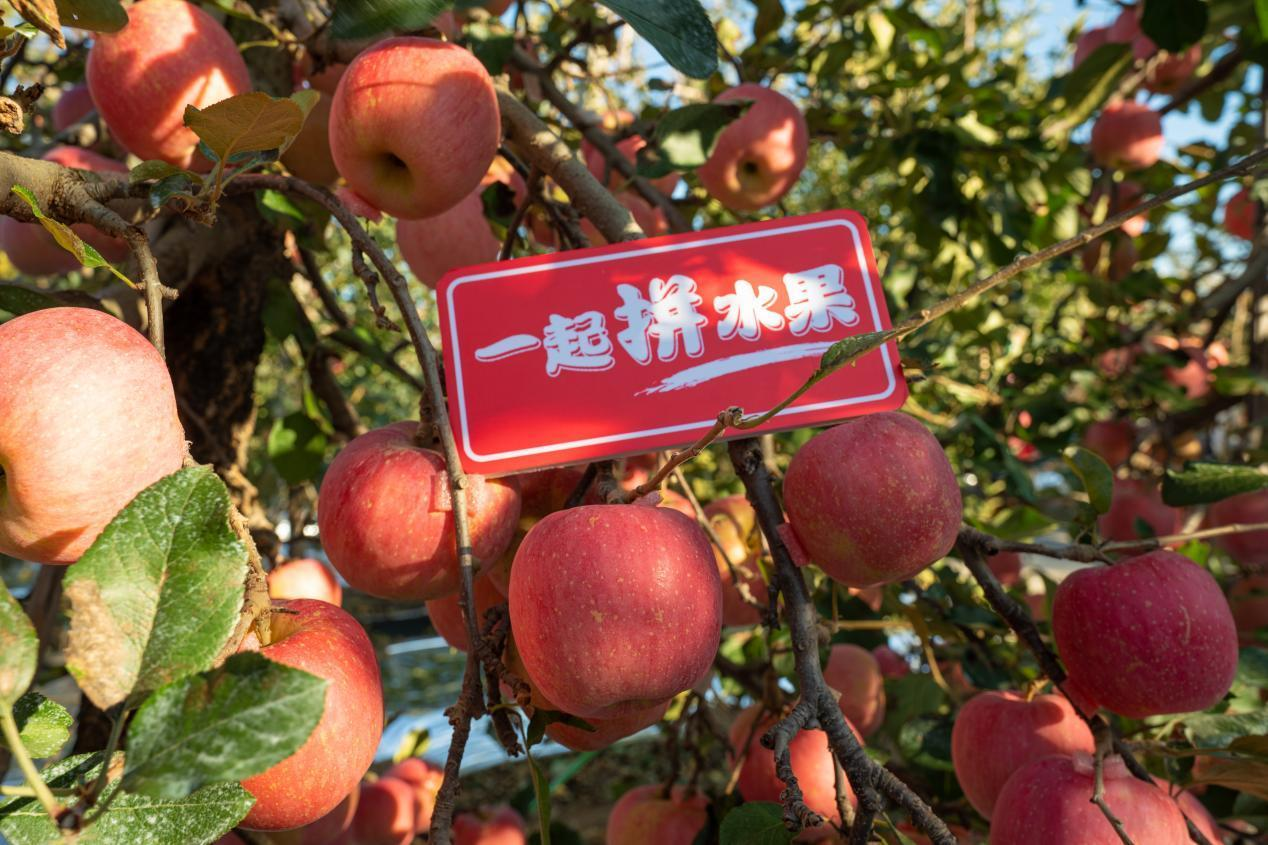apple: (508, 493, 729, 726), (1, 305, 189, 567), (178, 594, 379, 833), (314, 417, 520, 603), (328, 36, 505, 225), (783, 410, 963, 593), (1051, 550, 1240, 722), (82, 1, 250, 172), (983, 752, 1225, 845), (951, 685, 1093, 817), (696, 84, 806, 218), (604, 781, 715, 845), (1088, 101, 1164, 175), (452, 803, 528, 845), (1079, 419, 1133, 469)
